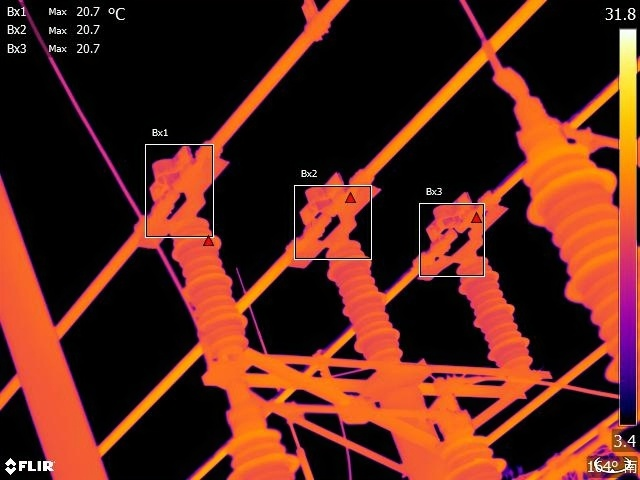post insulator: (526, 149, 640, 363), (178, 226, 259, 351), (331, 231, 405, 366), (462, 244, 532, 365), (221, 428, 306, 480), (433, 432, 509, 480)
